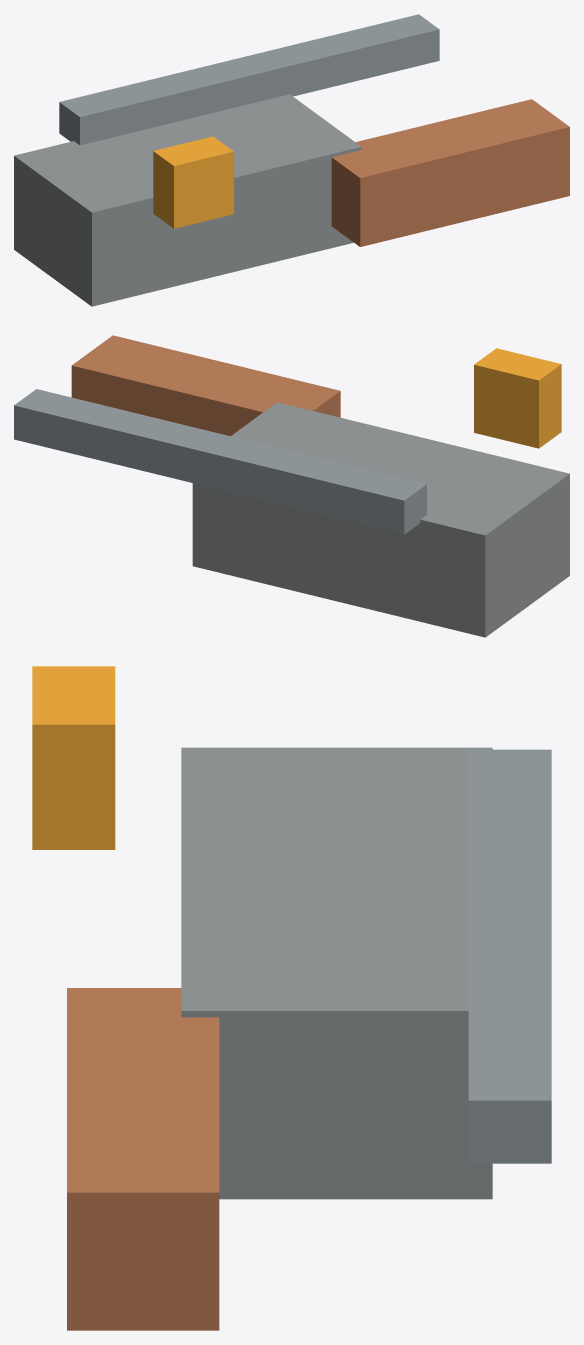
Rendered from voxel-shanghai-debris.gltf.
The picture shows the model from 3 angles, top to bottom: view 1: azimuth 30°, elevation 25°; view 2: azimuth 150°, elevation 25°; view 3: azimuth 270°, elevation 25°; orthographic projection. The views are drawn at different scales.
Size of the model in its own units: 1.5 by 0.5 by 0.75.
